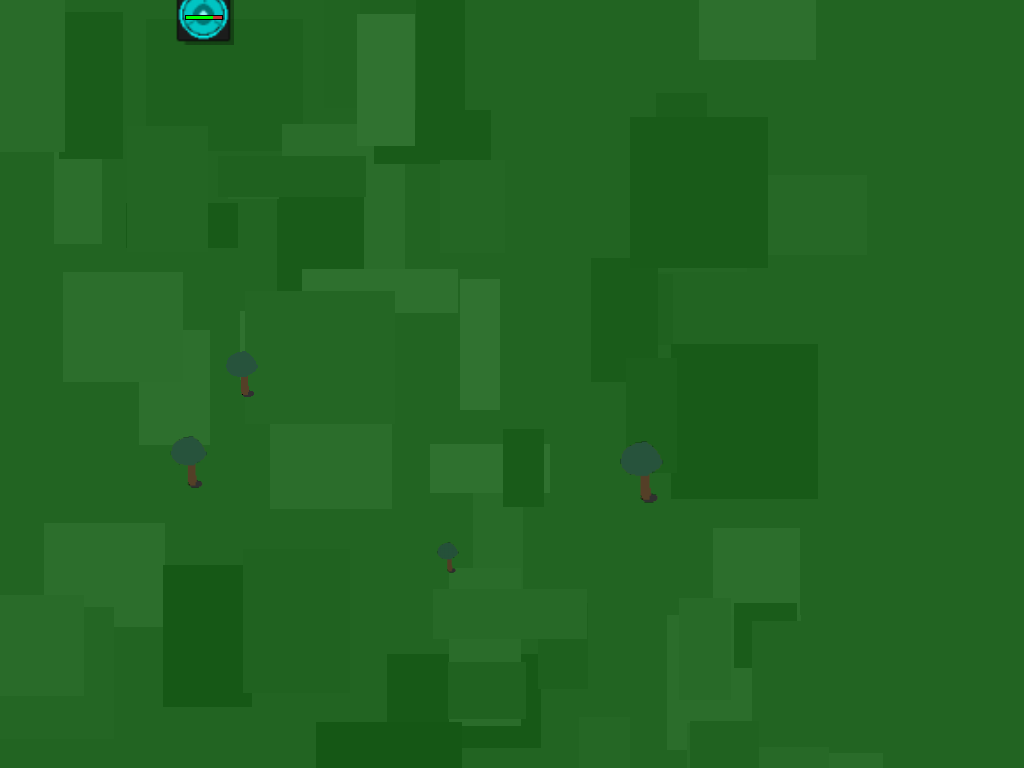LaserTurret: (166, 0, 242, 76)
